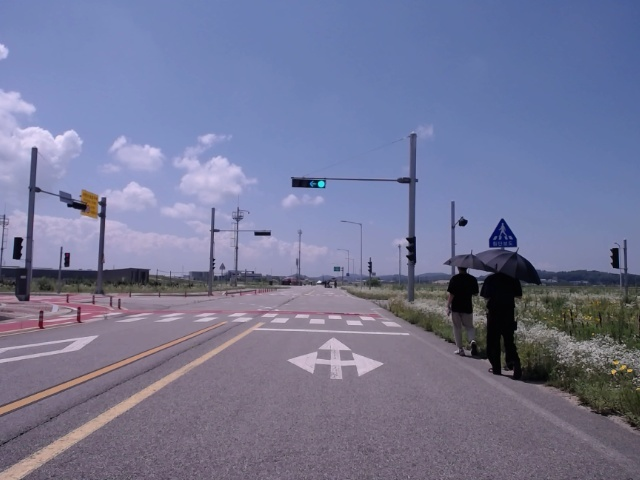all_green_4: (295, 177, 327, 190)
